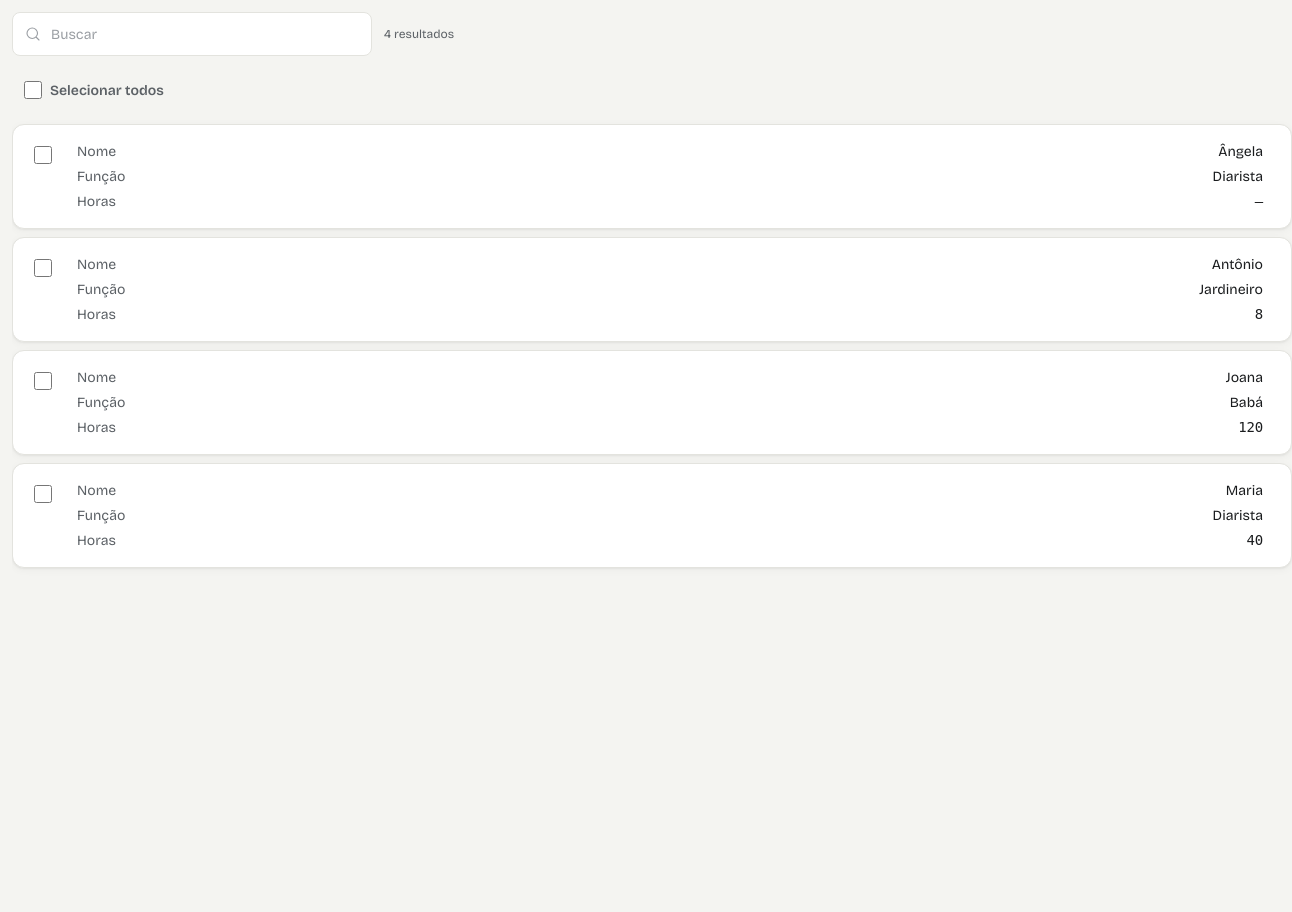
Scenario: DataTable › selection › selects cards on small screens, with a select-all above them
Click the checkbox in the row of "Antônio".
click(43, 268)  # box [34,259,52,277]
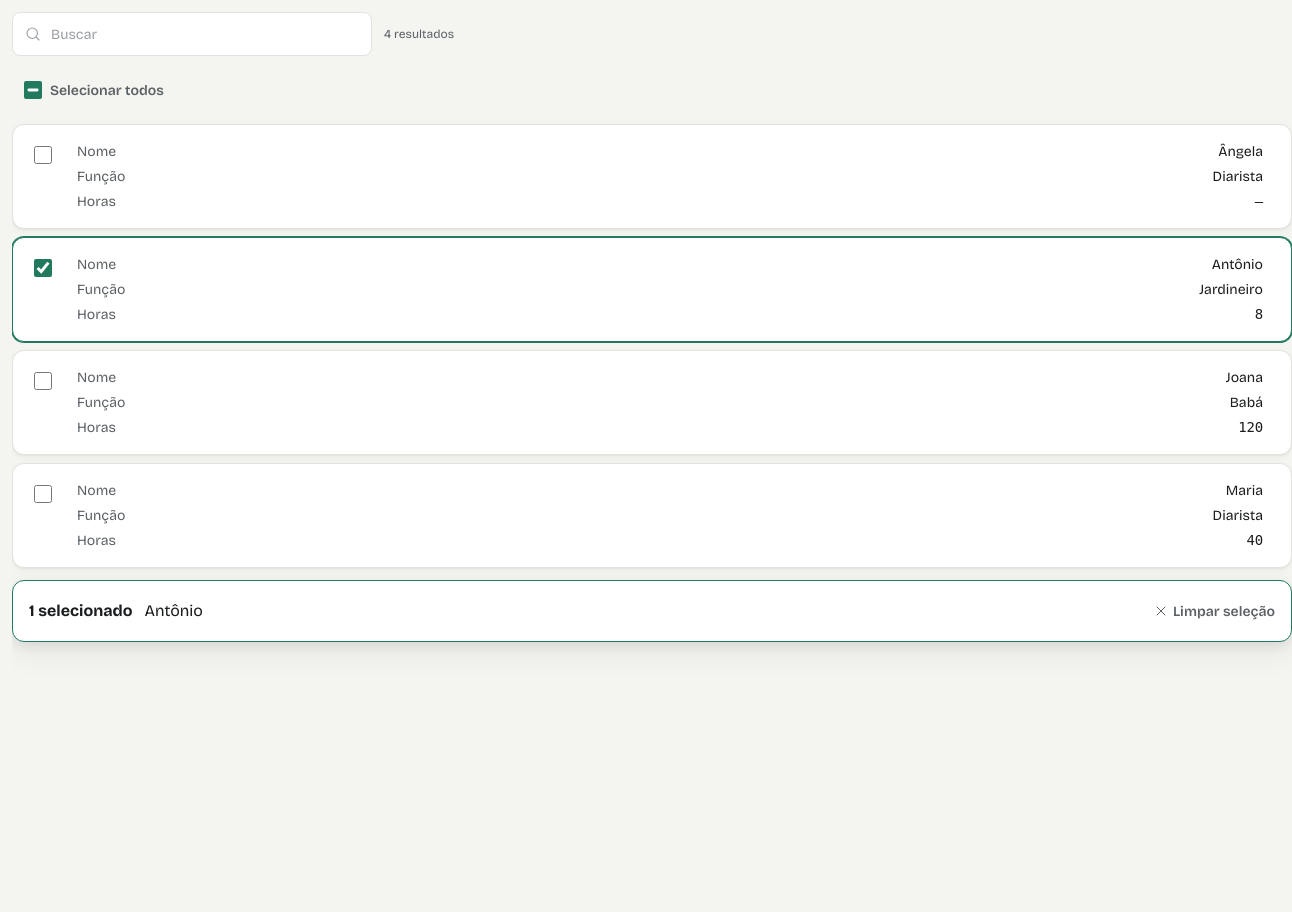
expect the button with class "bulk-act" reads "Antônio": met, box [144,599,203,623]
Click the checkbox labelled "Selecionar todos".
click(33, 90)  # box [24,81,42,99]
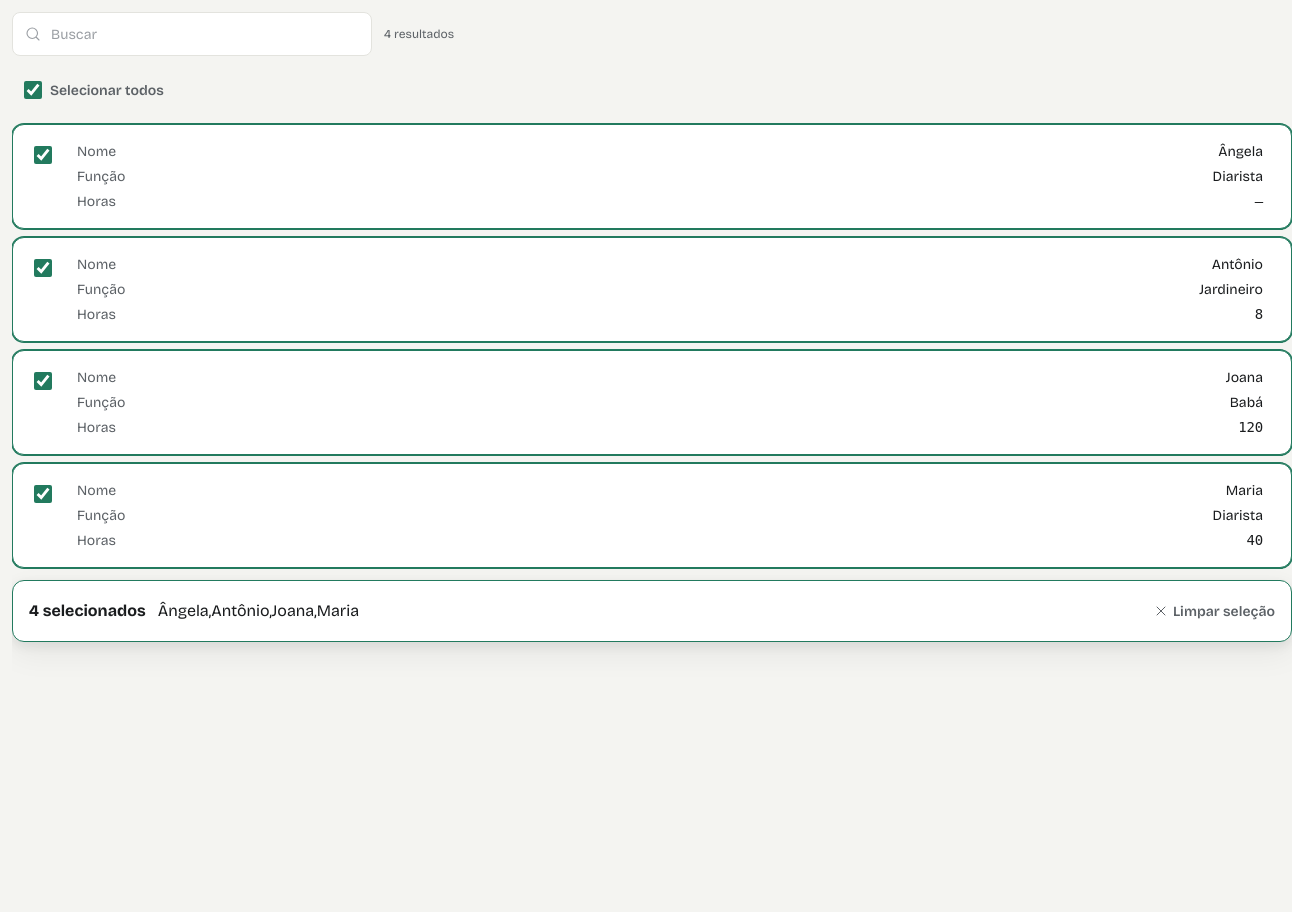
expect the element with class "dt__bulk" shows "4 selecionados": met, box [29,601,146,620]
